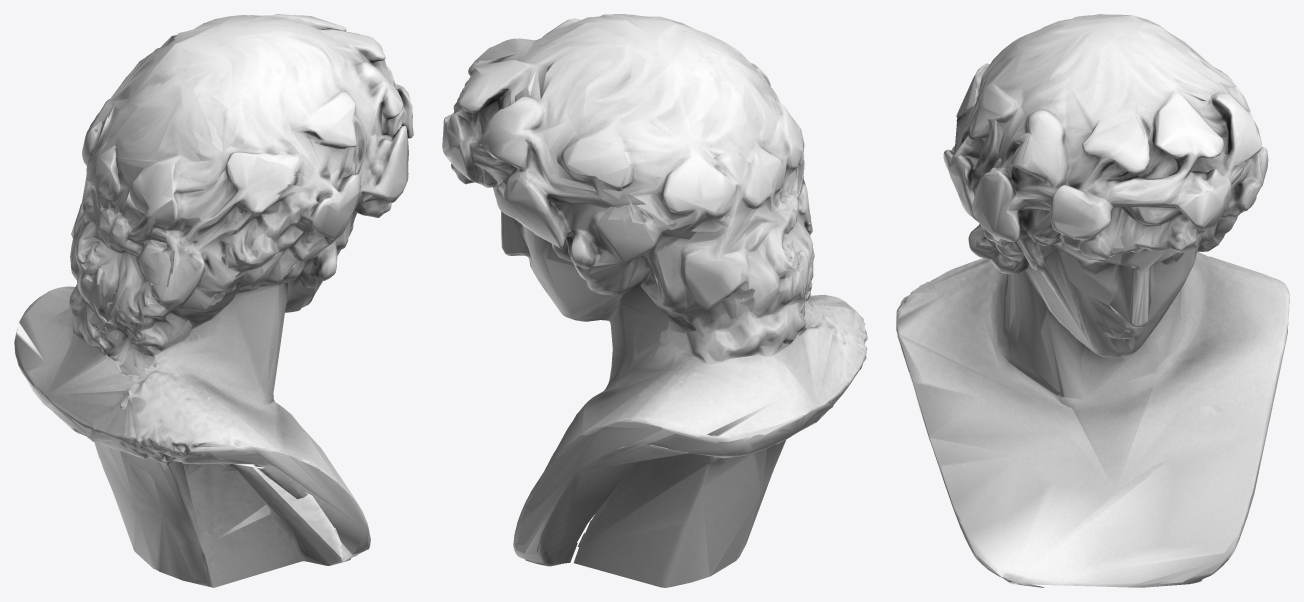
The model's file is antinous.obj.
3 renders of one model, left to right at view 1: azimuth 30°, elevation 25°; view 2: azimuth 150°, elevation 25°; view 3: azimuth 270°, elevation 25°, orthographic. The views are drawn at different scales.
Parts seen in each view (by area): view 1: antinous; view 2: antinous; view 3: antinous.
Boxes of the visible parts, x1=… form: antinous: x1=14, y1=14, x2=413, y2=587; antinous: x1=442, y1=14, x2=867, y2=587; antinous: x1=896, y1=14, x2=1289, y2=587.
Bounding box in the file's own units: 10.48 × 14.49 × 9.89.
Materials: 1 (1 with a texture image).
